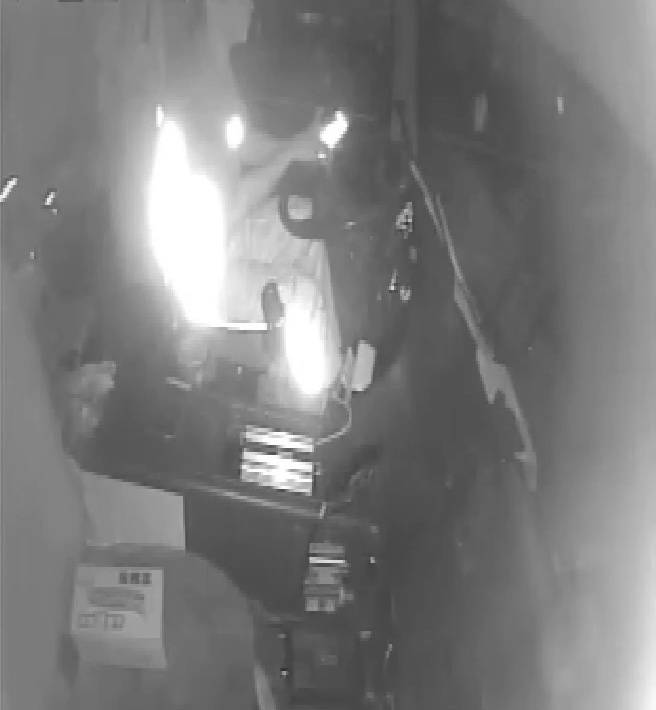cellphone: (309, 105, 353, 154)
